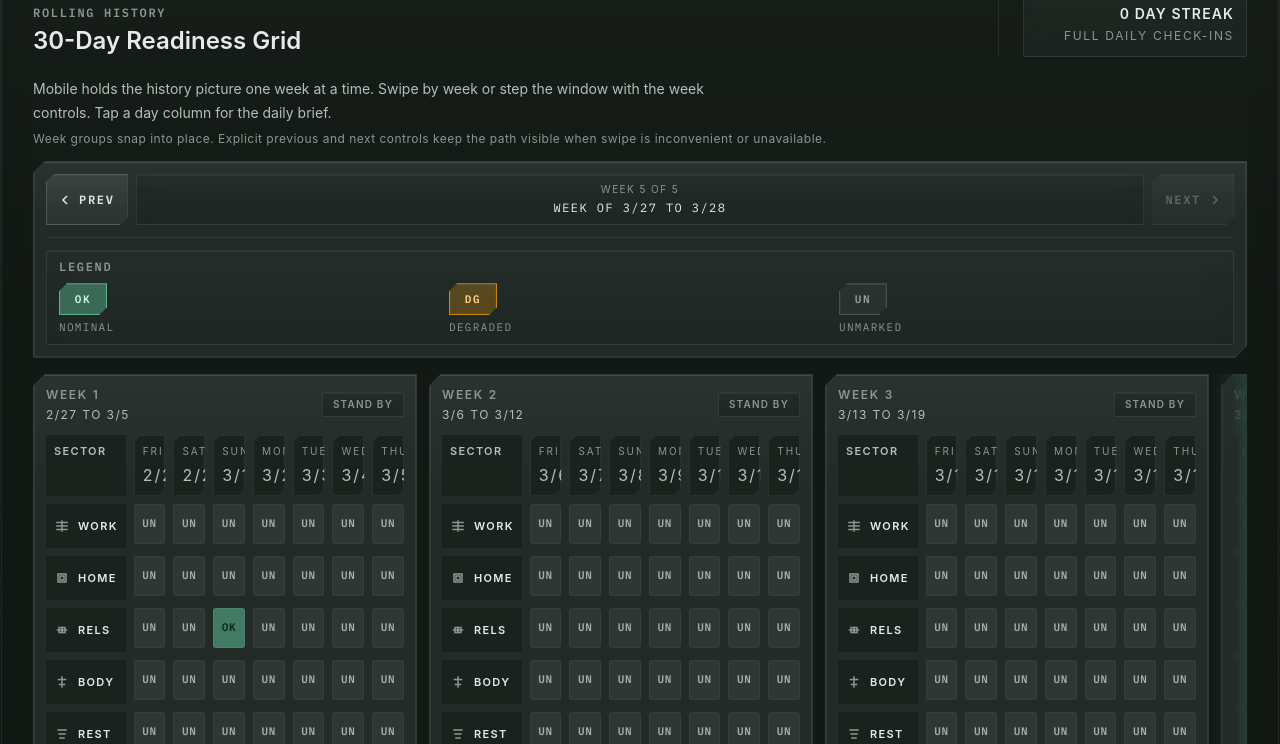
Test case: history helpers and grid behavior › keeps the daily brief aligned to the visible week when explicit controls are used
Check: the navigation bar named "week navigation" is shown, box [46, 174, 1234, 225]
Check: the button with aria-label "next week" is disabled, box [1152, 174, 1234, 225]
Click the button with aria-label "previous week" at {"x": 87, "y": 200}, box [46, 174, 128, 225]
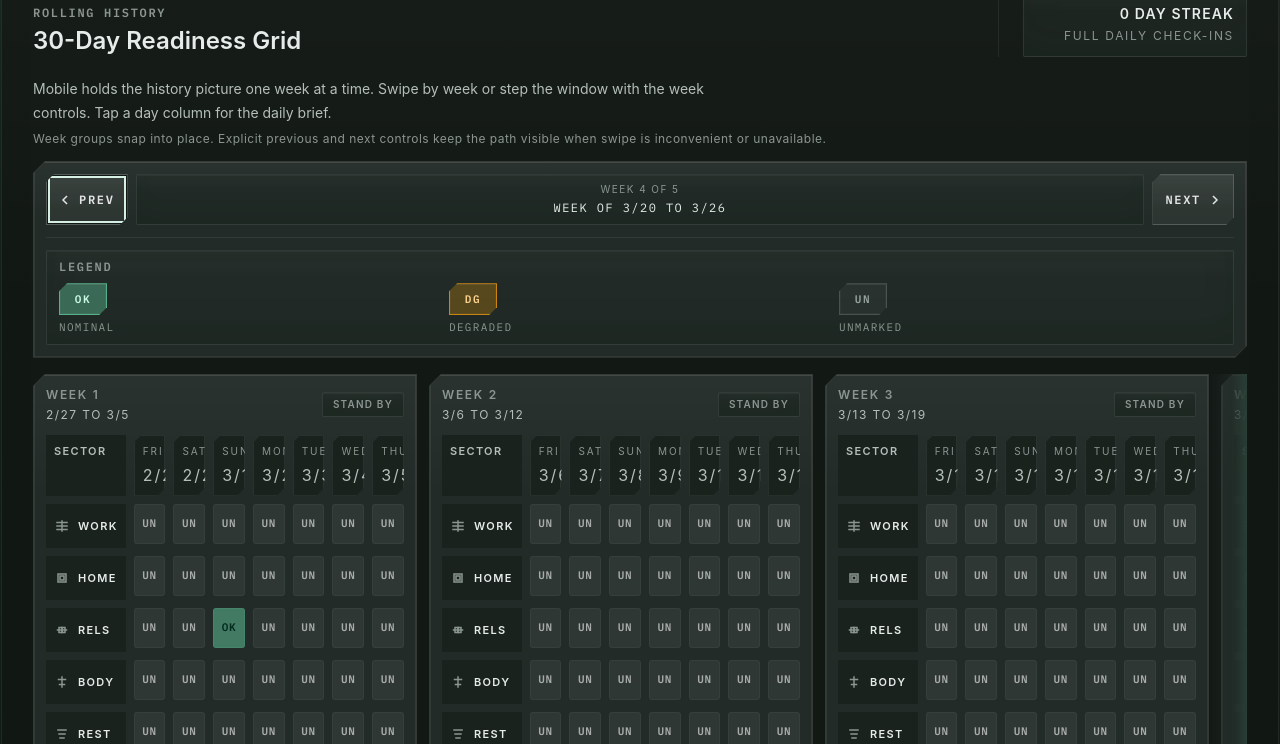
Check: the message with test id "mobile-history-week-status" shows "Week 4 of 5", box [136, 174, 1144, 225]
Check: the button with aria-label "next week" is enabled
Click the button with aria-label "next week" at {"x": 1193, "y": 200}, box [1152, 174, 1234, 225]
(page scrolled)
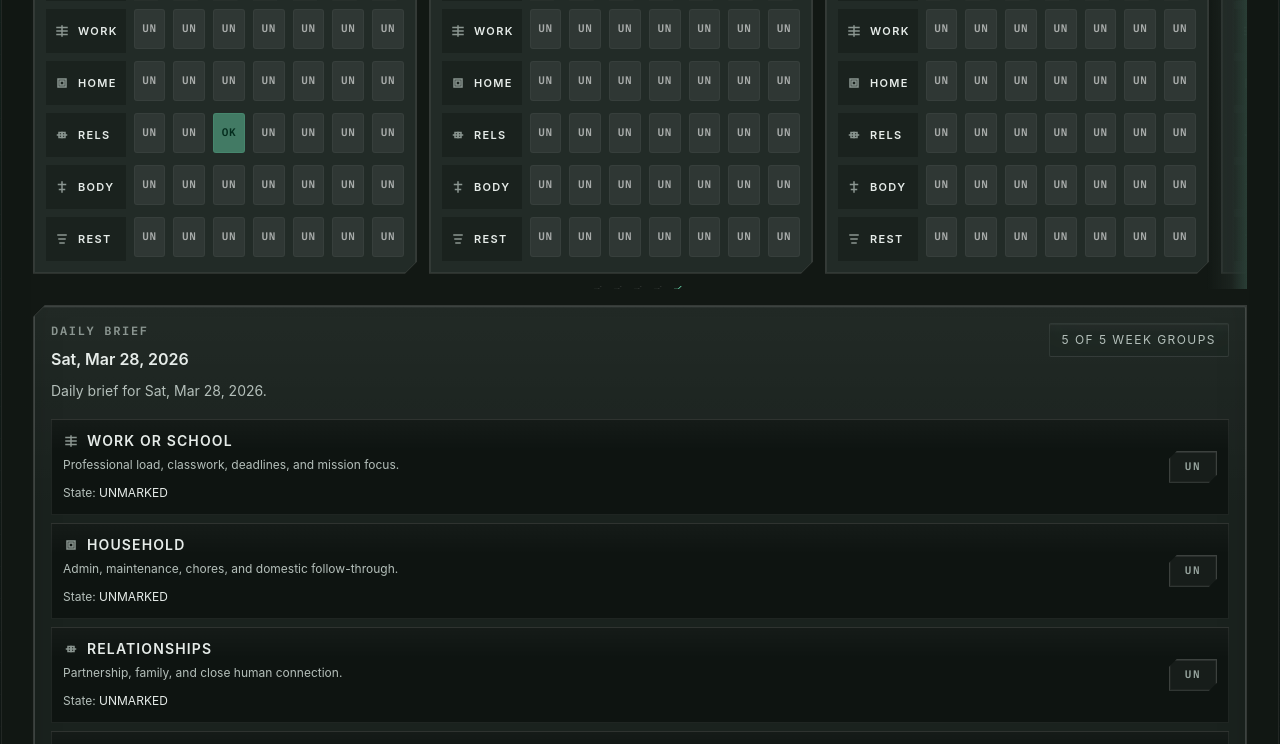
Check: the heading "Sat, Mar 28, 2026" is shown, box [51, 349, 189, 369]
